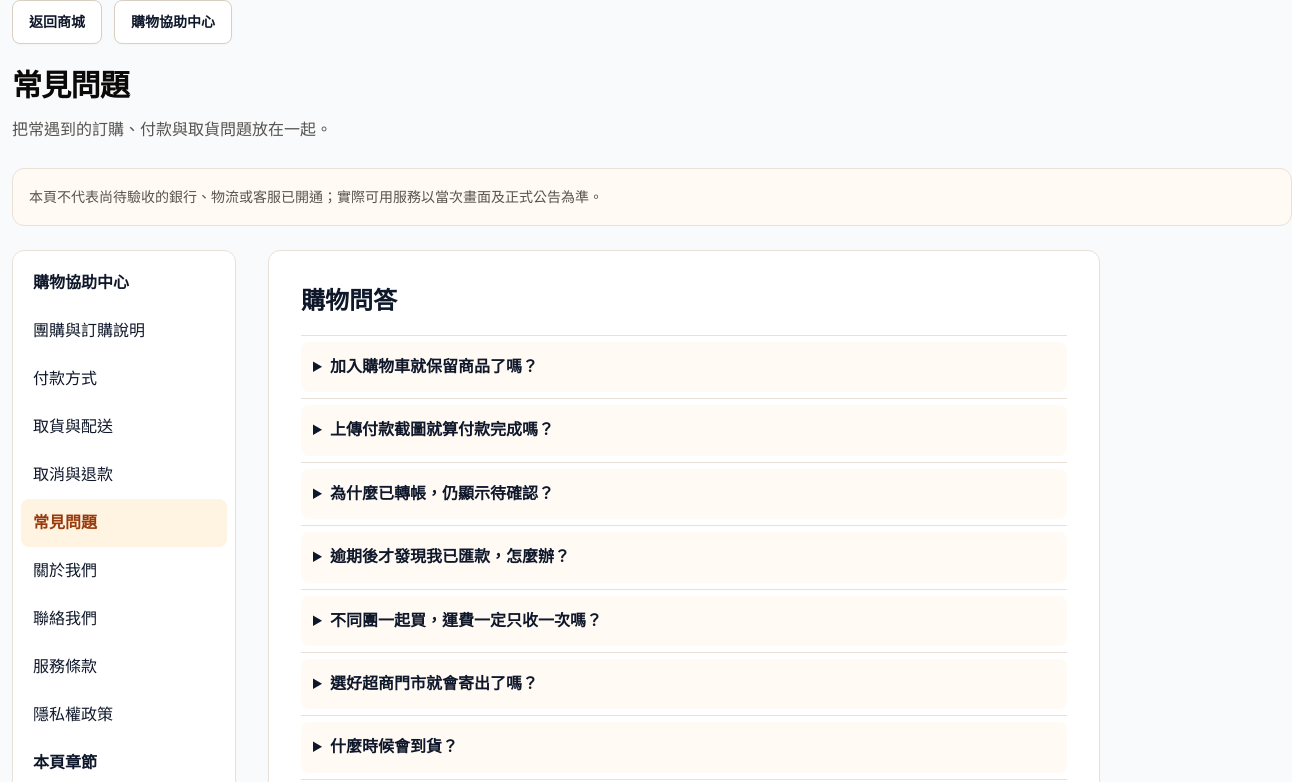
Test: FAQ is keyboard-compatible native disclosure and distinguishes payment from bank confirmation
Click the heading "上傳付款截圖就算付款完成嗎？".
click(442, 430)  # box [301,405,1067,456]
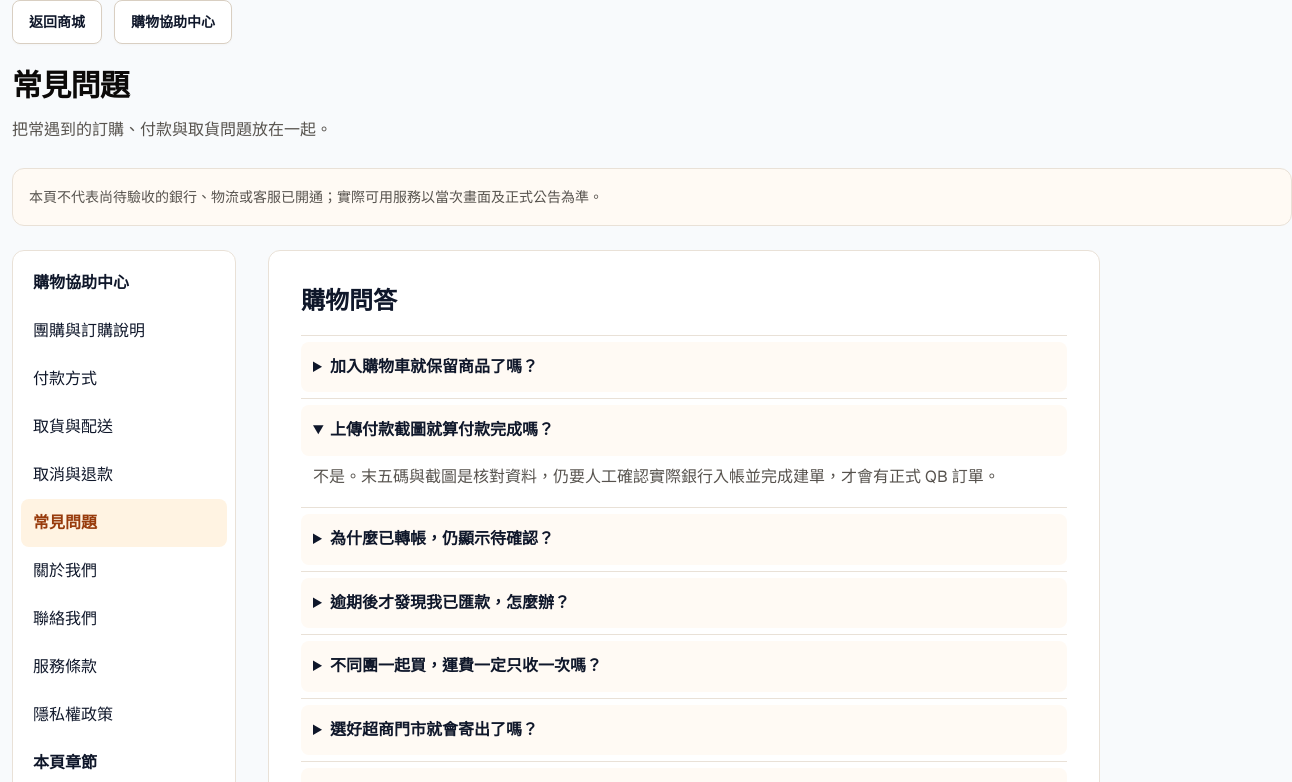
expect the text "不是。末五碼與截圖是核對資料，仍要人工確認實際銀行入帳並完成建單，才會有正式 QB 訂單。" is shown: met, box [313,466,1000,487]
